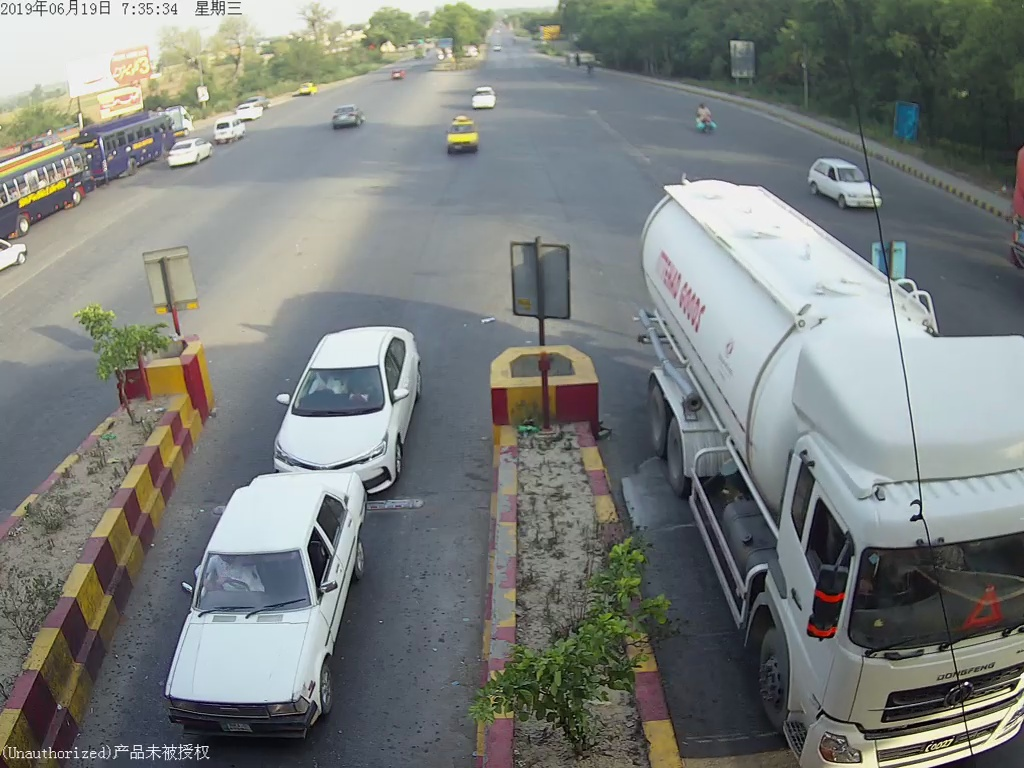Cat-1: (161, 469, 365, 732)
Cat-4: (602, 181, 1024, 768)
